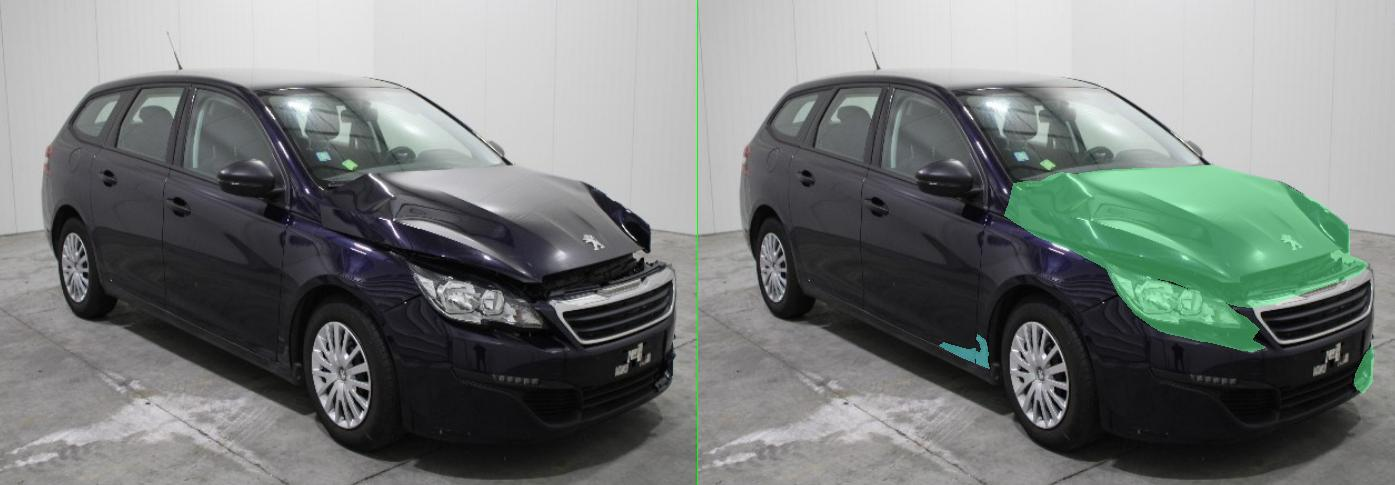Broken part: (612, 165, 1341, 307), (809, 260, 1135, 351), (903, 312, 1123, 343), (1313, 345, 1351, 393)
Flaking: (482, 342, 554, 362), (556, 334, 582, 368)
